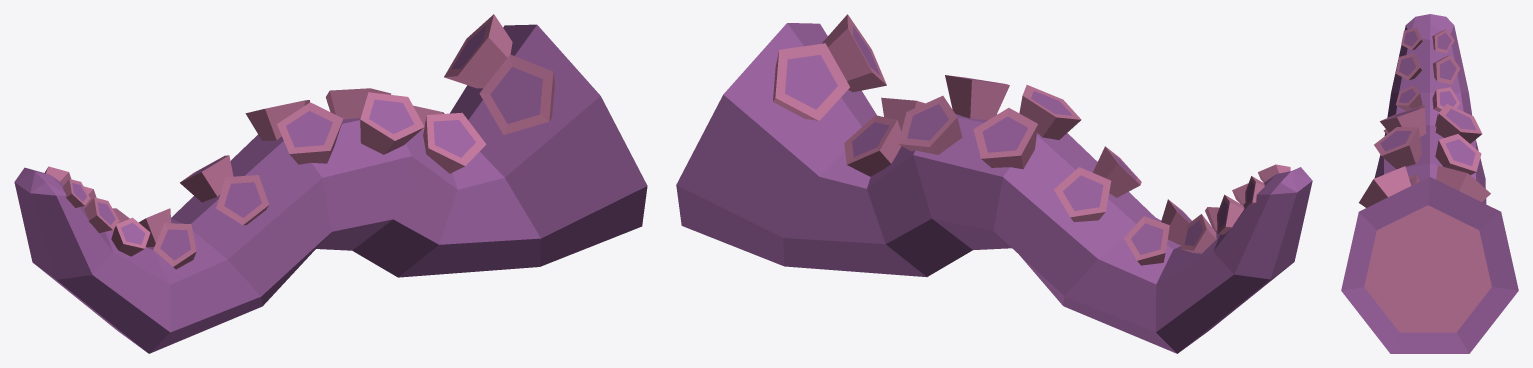
Rendered from Tentacle.glb.
The picture shows the model from 3 angles, left to right: view 1: azimuth 30°, elevation 25°; view 2: azimuth 150°, elevation 25°; view 3: azimuth 270°, elevation 25°; orthographic projection. The views are drawn at different scales.
Visible parts, largest first — view 1: Tentacle; view 2: Tentacle; view 3: Tentacle.
Part boxes in pixels (x1,y1,x2,y2): Tentacle: (14,14,647,353); Tentacle: (676,14,1312,353); Tentacle: (1341,14,1518,353).
Size of the model in its own units: 0.762 by 0.2757 by 0.2673.
